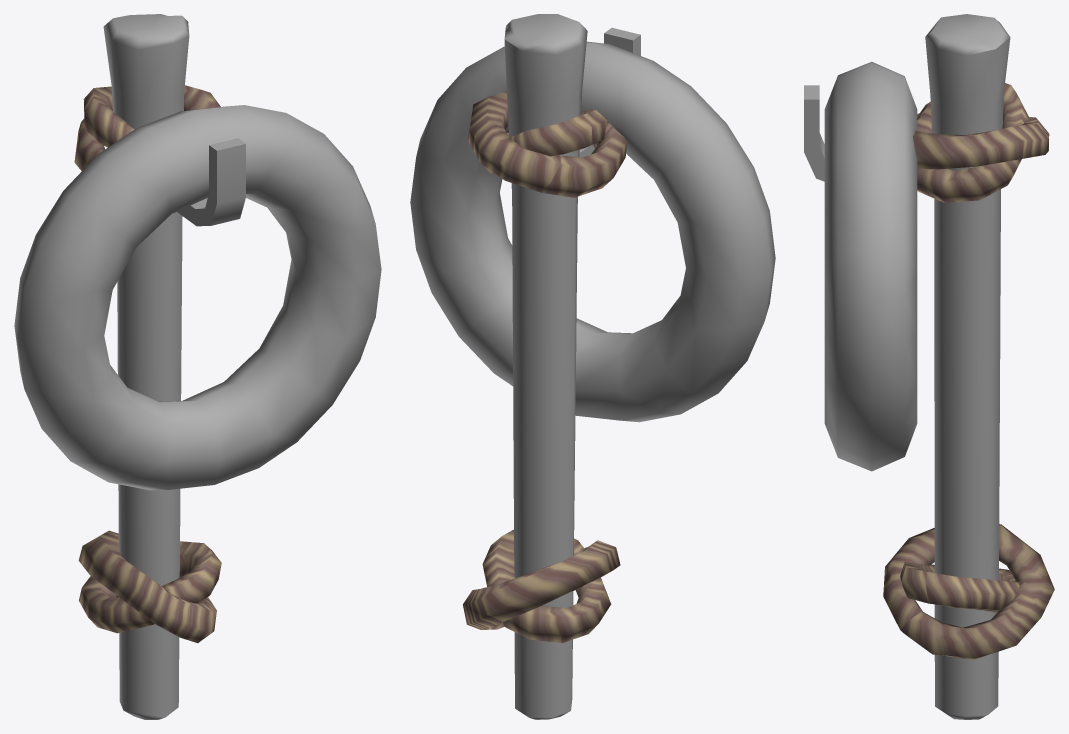
The model's file is Lifebuoy_mesh.fbx.
The picture shows the model from 3 angles, left to right: view 1: azimuth 30°, elevation 25°; view 2: azimuth 150°, elevation 25°; view 3: azimuth 270°, elevation 25°; orthographic projection.
Visible parts, largest first — view 1: Lifebuoy_mesh; view 2: Lifebuoy_mesh; view 3: Lifebuoy_mesh.
Part boxes in pixels (bbox=[...]): Lifebuoy_mesh: bbox=[14, 14, 381, 719]; Lifebuoy_mesh: bbox=[410, 14, 775, 719]; Lifebuoy_mesh: bbox=[804, 14, 1054, 719].
Size of the model in its own units: 1.03 by 1.89 by 0.6262.
